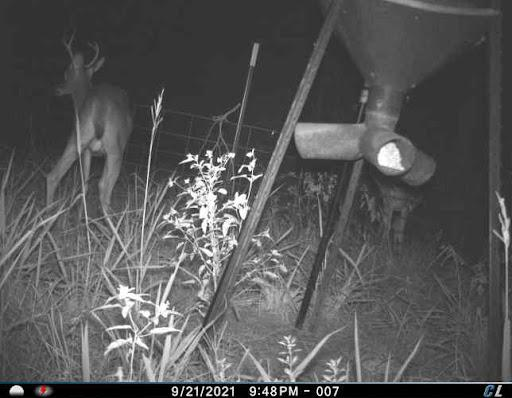Deer: (47, 21, 137, 245)
